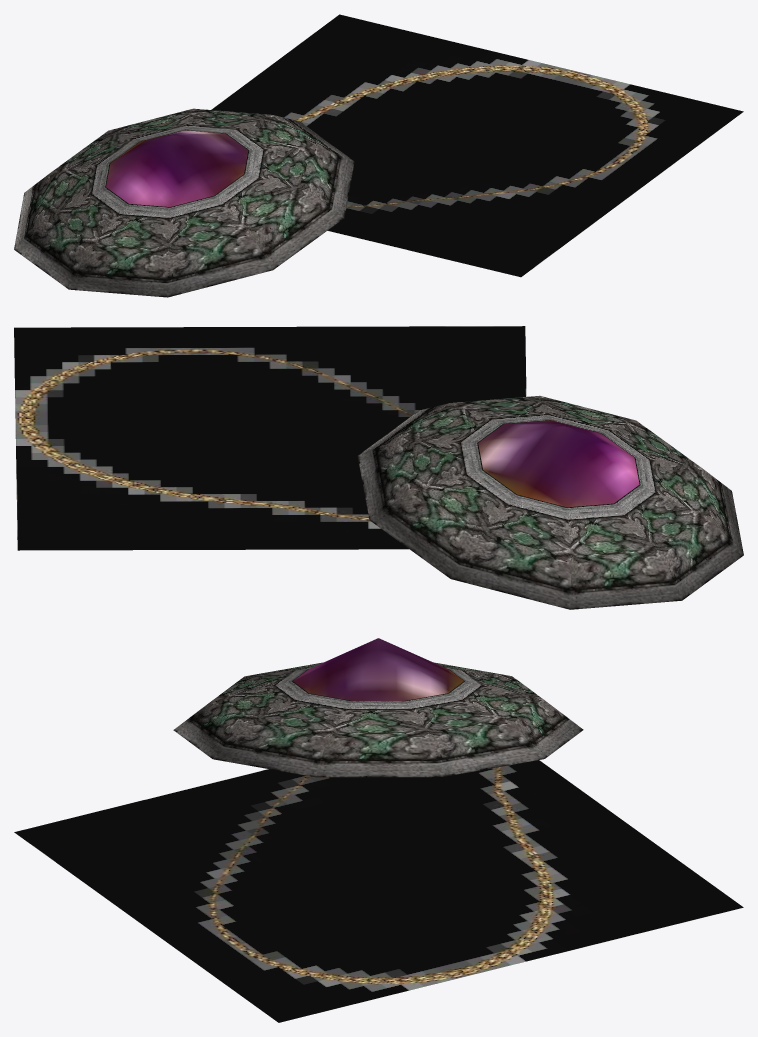
File: ITAM_DEX_01.glb
3 views of the same model, one above another, from view 1: azimuth 30°, elevation 25°; view 2: azimuth 150°, elevation 25°; view 3: azimuth 270°, elevation 25° (orthographic). The views are drawn at different scales.
Parts seen in each view (by area): view 1: Mesh; view 2: Mesh; view 3: Mesh.
Boxes of the visible parts, x1,y1,x2,y2 form: Mesh: [14, 14, 743, 297]; Mesh: [14, 326, 743, 609]; Mesh: [14, 638, 743, 1022].
Bounding box in the file's own units: 0.1834 × 0.027 × 0.1515.
Materials: 2 (2 with a texture image).
